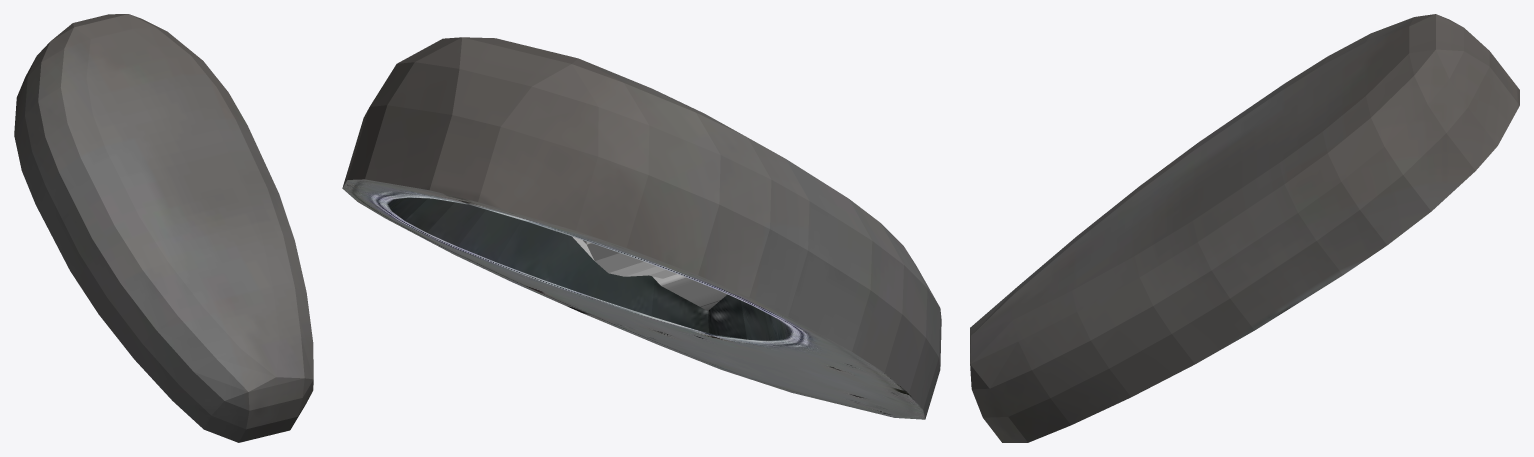
The model's file is lampSov2_03.glb.
The picture shows the model from 3 angles, left to right: view 1: azimuth 30°, elevation 25°; view 2: azimuth 150°, elevation 25°; view 3: azimuth 270°, elevation 25°; orthographic projection. The views are drawn at different scales.
Parts seen in each view (by area): view 1: geometry_0; view 2: geometry_0; view 3: geometry_0.
Part boxes in pixels (box(x1,y1,x2,y2)): geometry_0: box(14, 14, 313, 442); geometry_0: box(342, 37, 941, 419); geometry_0: box(970, 14, 1519, 442).
Bounding box in the file's own units: 1.43 × 2.02 × 2.55.
Materials: 1 (1 with a texture image).
